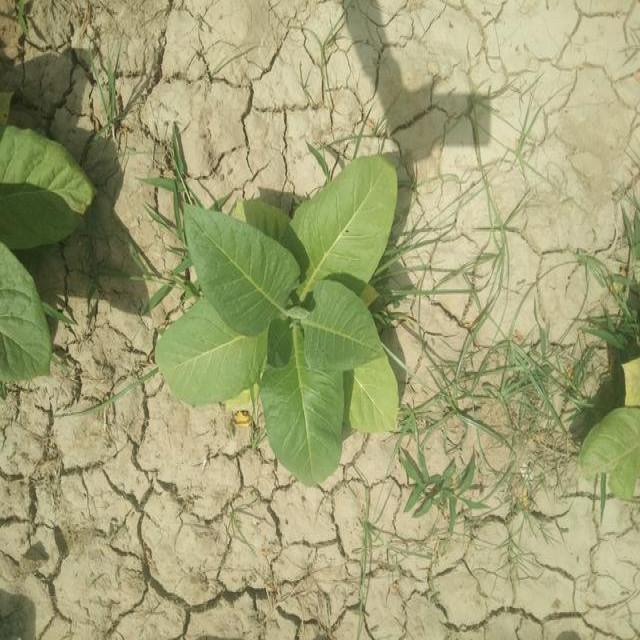crop: (160, 156, 410, 482), (0, 95, 99, 400), (590, 383, 640, 507)
